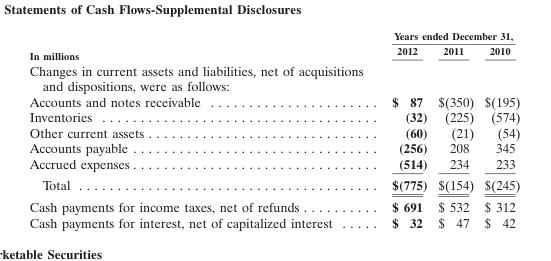table: (28, 28, 519, 229)
table column: (28, 28, 361, 229), (361, 28, 432, 229), (432, 28, 478, 229), (478, 28, 519, 229)
table column header: (28, 28, 519, 62)
table projected row header: (28, 62, 519, 93)
table row: (28, 62, 519, 93), (28, 173, 519, 195), (28, 42, 519, 62), (28, 195, 519, 214), (28, 155, 519, 173), (28, 93, 519, 109), (28, 124, 519, 140), (28, 109, 519, 124), (28, 140, 519, 155), (28, 214, 519, 229), (28, 28, 519, 42)
table spanning cell: (28, 28, 361, 62), (361, 28, 519, 42)
